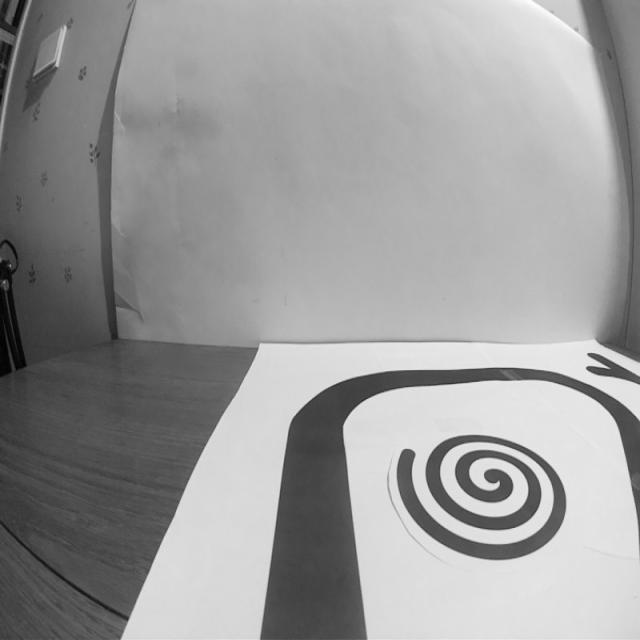lineStraight: (249, 505, 379, 640)
nest: (395, 428, 568, 566)
